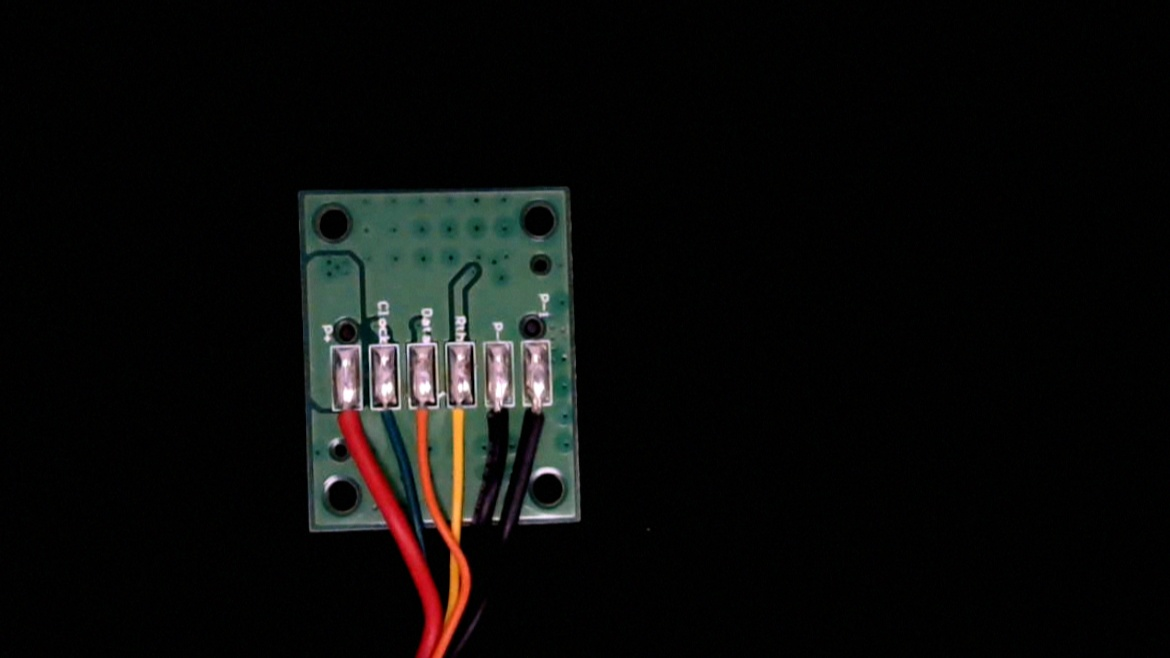Black: (486, 388, 515, 459)
Black1: (523, 390, 551, 450)
Green: (371, 389, 405, 461)
Orange: (410, 388, 442, 462)
Red: (332, 392, 367, 464)
Yellow: (449, 387, 476, 459)
